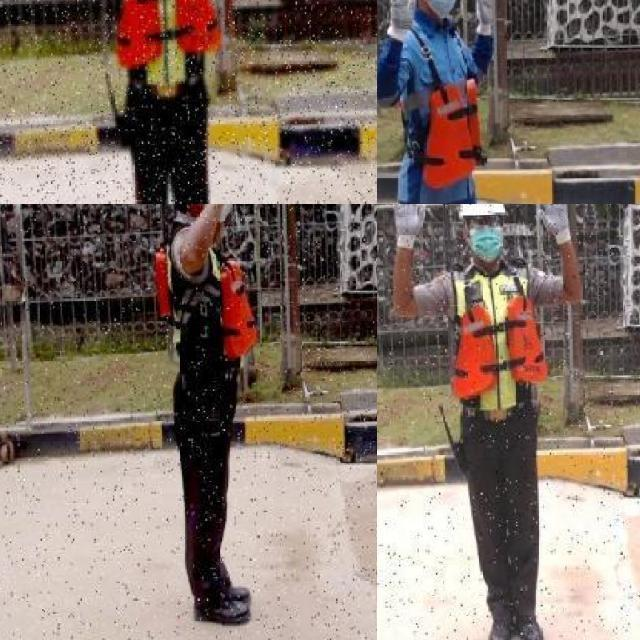apron: (388, 204, 428, 252), (535, 204, 573, 245), (384, 0, 415, 46), (473, 0, 496, 40)
